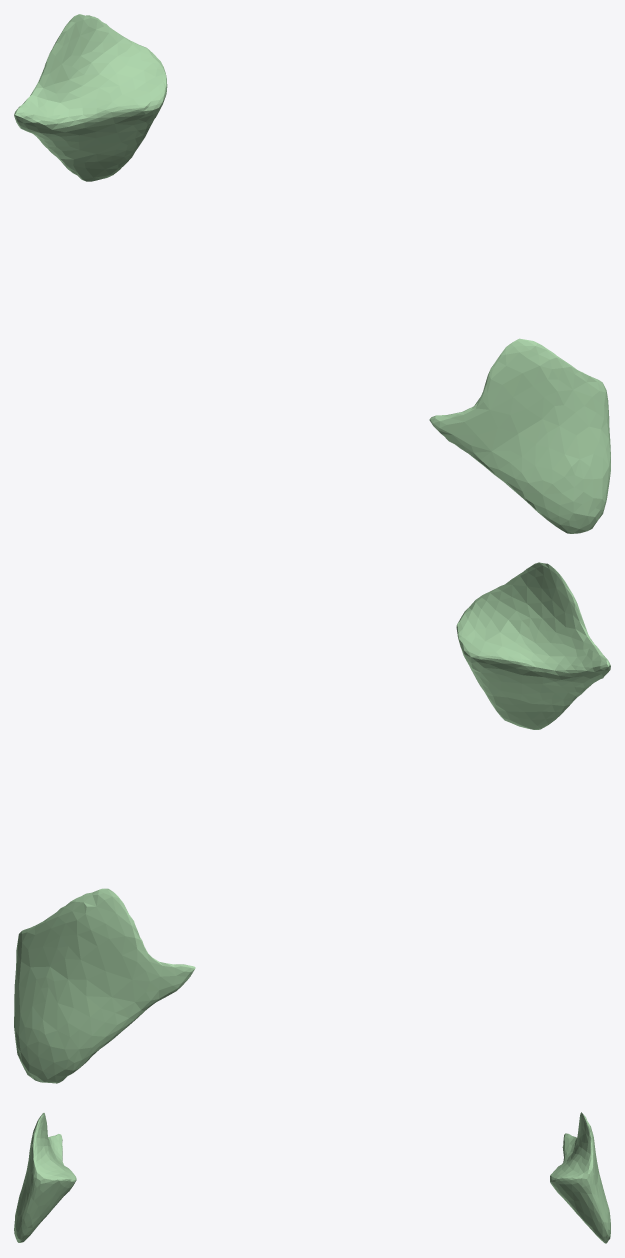
3 views of the same model, one above another, from view 1: azimuth 30°, elevation 25°; view 2: azimuth 150°, elevation 25°; view 3: azimuth 270°, elevation 25° (orthographic). The views are drawn at different scales.
Visible parts, largest first — view 1: 131.obj; view 2: 131.obj; view 3: 131.obj.
Boxes of the visible parts, left/top/right/bottom form: 131.obj: left=14, top=14, right=610, bottom=533; 131.obj: left=14, top=562, right=610, bottom=1083; 131.obj: left=14, top=1112, right=610, bottom=1243.
Bounding box in the file's own units: 1501 × 1693 × 7919.
